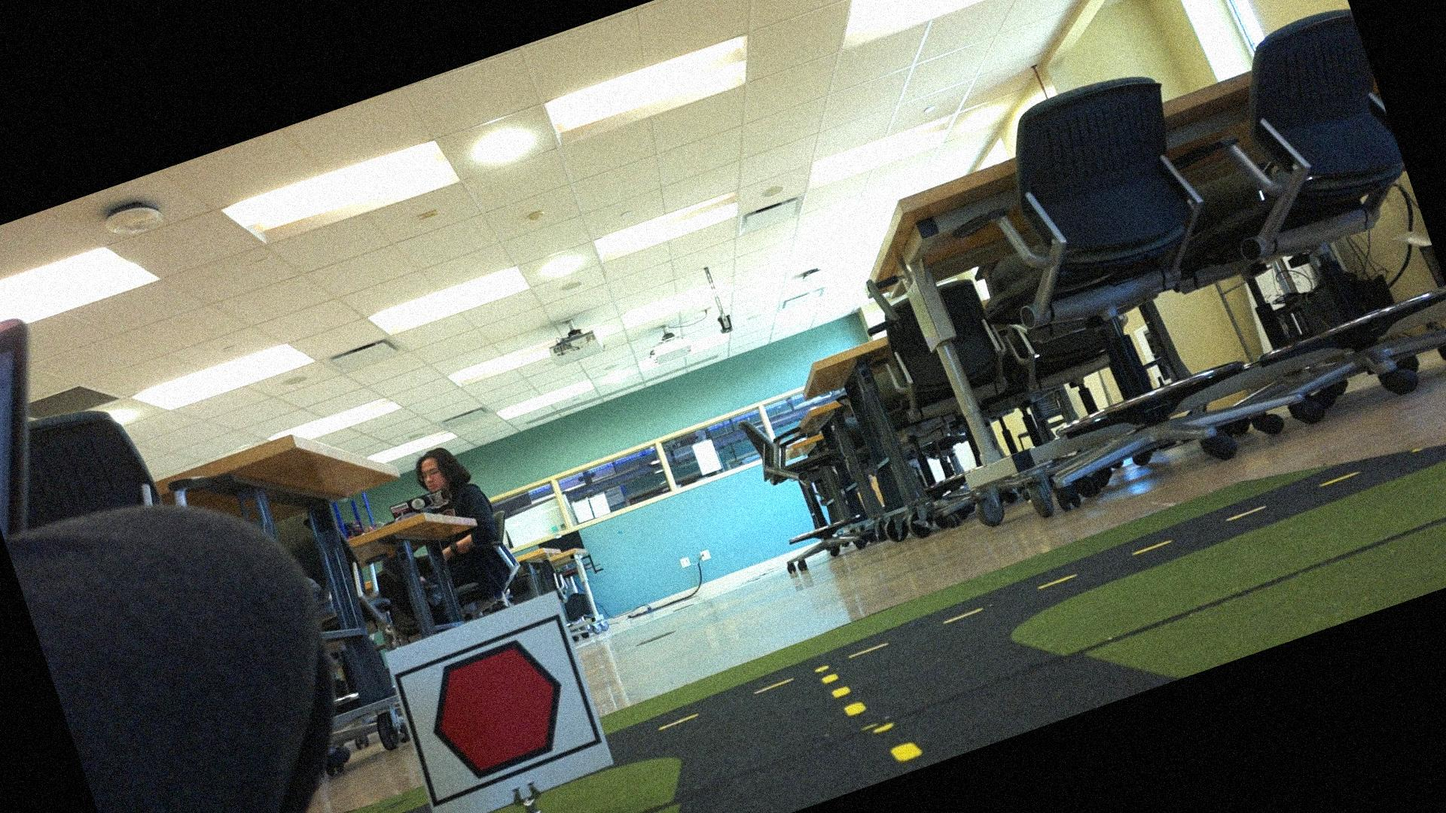stop: (401, 621, 594, 795)
yellowline: (816, 644, 923, 783)
